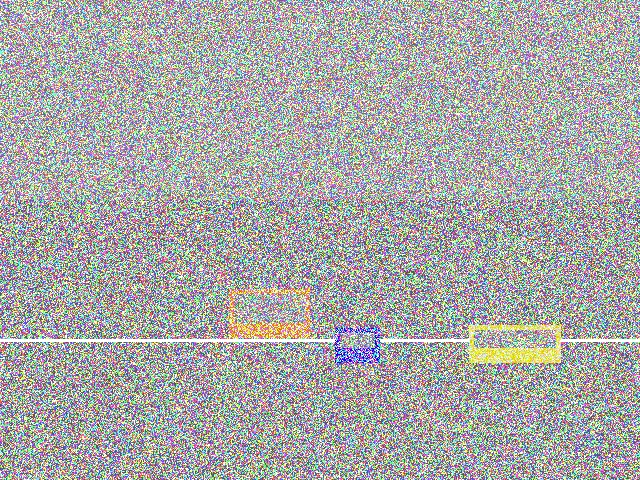bus: (339, 259, 430, 321)
car: (410, 306, 504, 445)
motorcycle: (317, 190, 419, 299)
